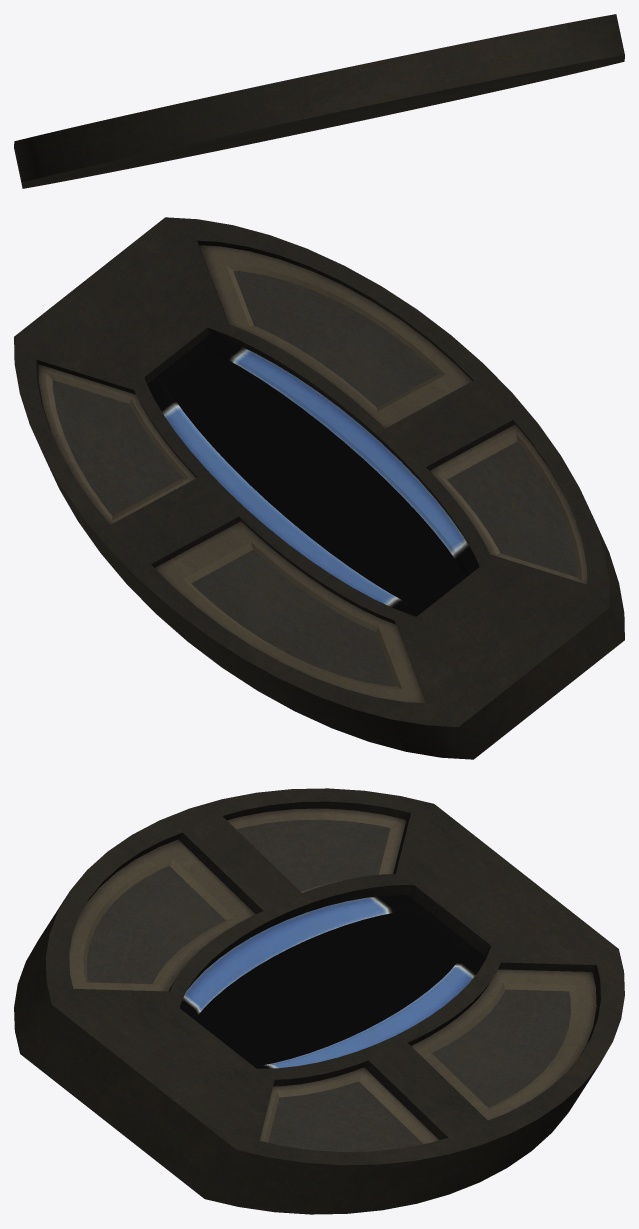
Rendered from countdown.obj.
The picture shows the model from 3 angles, top to bottom: view 1: azimuth 30°, elevation 25°; view 2: azimuth 150°, elevation 25°; view 3: azimuth 270°, elevation 25°; orthographic projection. The views are drawn at different scales.
Visible parts, largest first — view 1: timer_ref; view 2: timer_ref; view 3: timer_ref.
Boxes of the visible parts, left/top/right/bottom form: timer_ref: left=14, top=14, right=624, bottom=188; timer_ref: left=14, top=217, right=624, bottom=759; timer_ref: left=14, top=788, right=624, bottom=1214.
Bounding box in the file's own units: 1.24 × 0.4659 × 0.7965.
